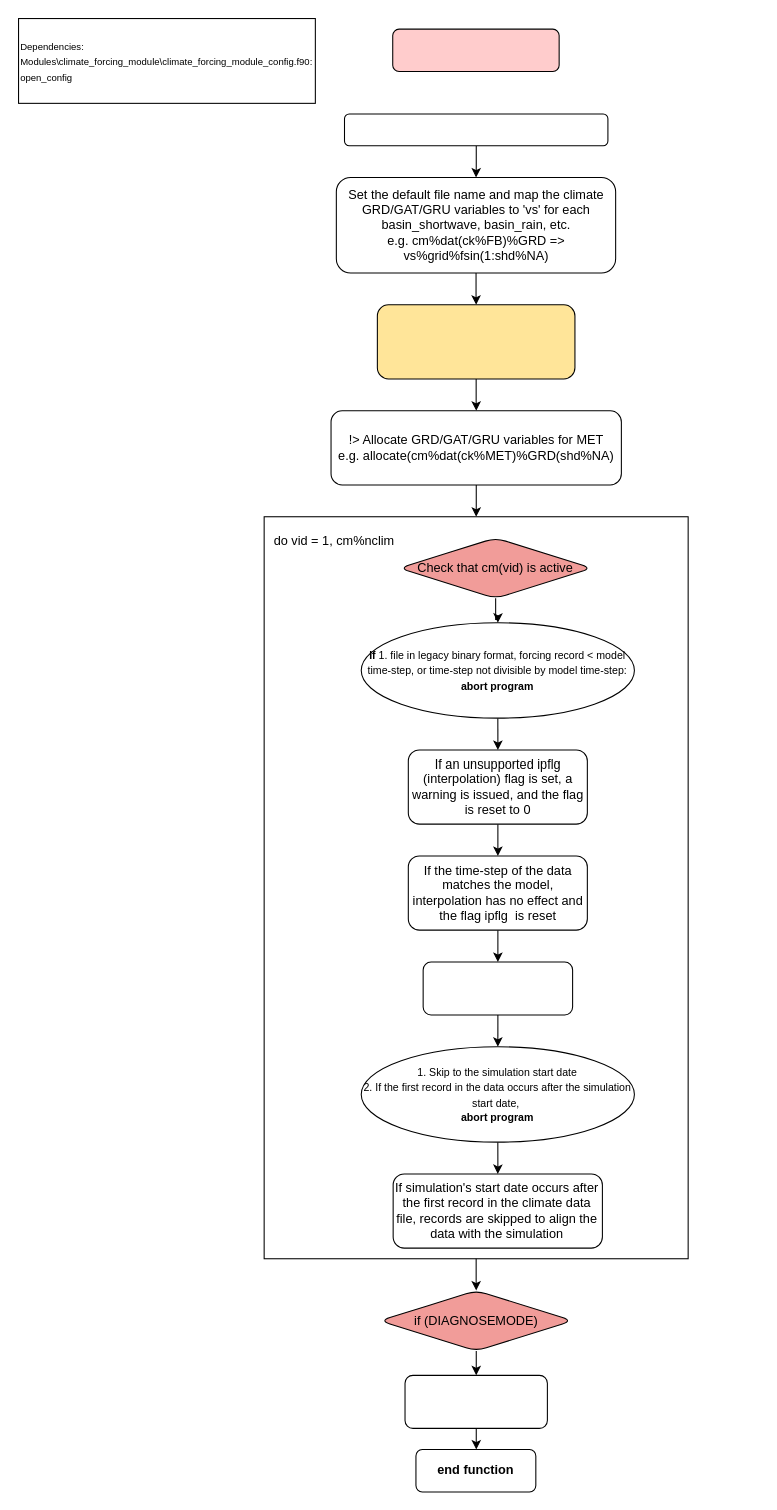
This 777x1510 diagram has some shape labels left out. Here are the shapes that lost their labels. From the top down, the centre of each, then its label:
point 475,50: climate_forcing_module.f90
point 475,129: climate_module_init(fls, shd, ii1, ii2, cm) result(ENDDATA)
point 475,341: !> Read from file to override default configuration call open_config(cm)
point 497,988: Activate fields for INTERPOLATIONFLAG
point 475,1401: Print a summary of the climate forcing variables
